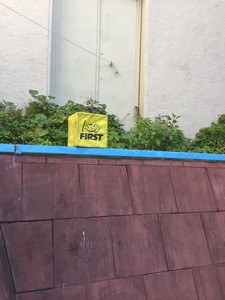cube: (68, 115, 108, 149)
